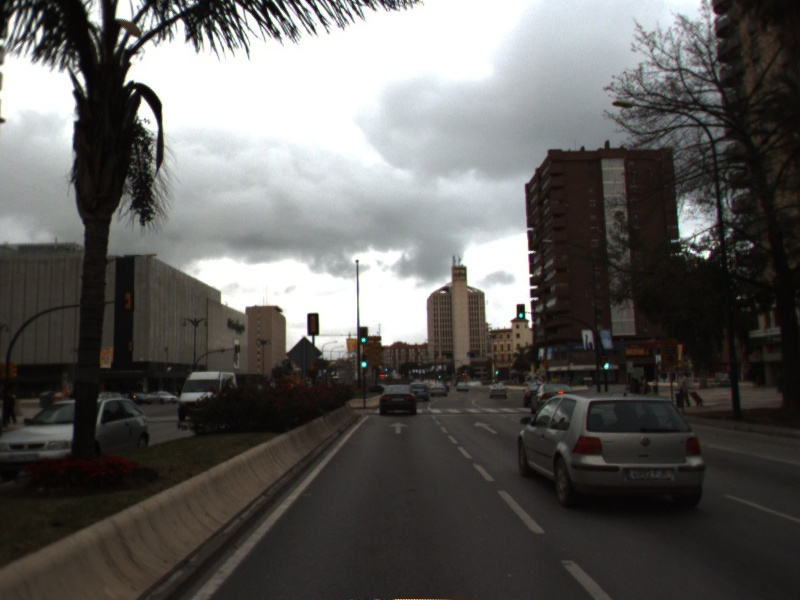STRAIGHT: (472, 419, 500, 436), (387, 420, 411, 435)
